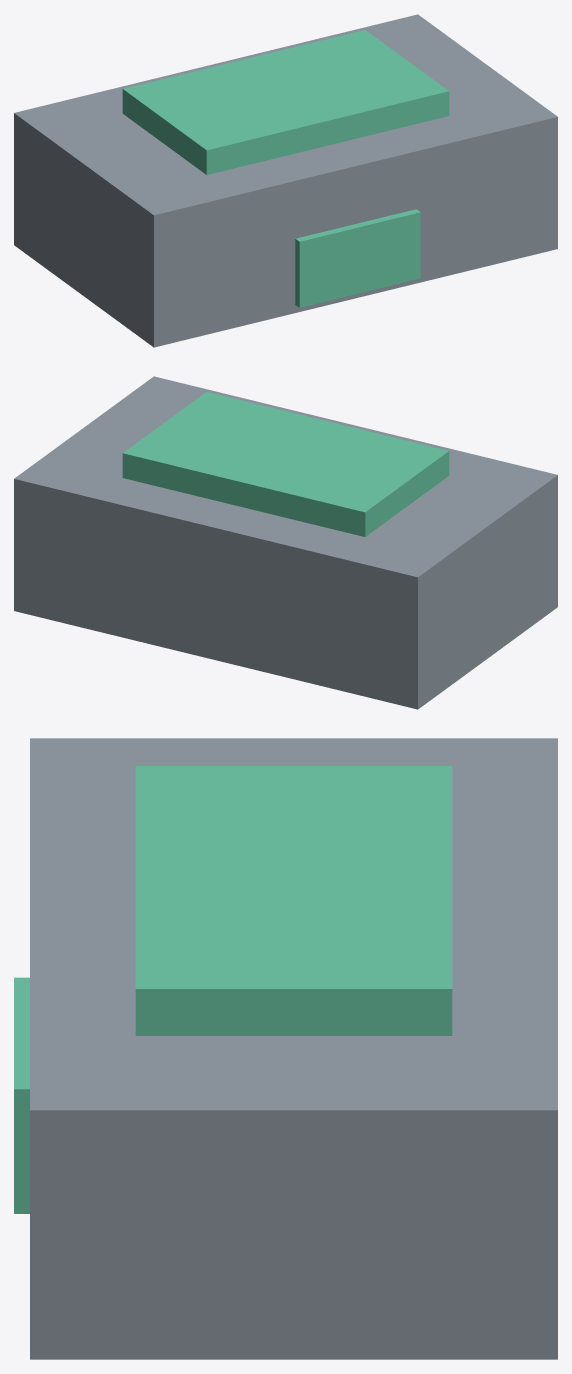
File: CO_QinglongMBT_LOD0.glb
The picture shows the model from 3 angles, top to bottom: view 1: azimuth 30°, elevation 25°; view 2: azimuth 150°, elevation 25°; view 3: azimuth 270°, elevation 25°; orthographic projection. The views are drawn at different scales.
Parts seen in each view (by area): view 1: EntranceGate; view 2: EntranceGate; view 3: EntranceGate.
Part boxes in pixels (x1,y1,x2,y2): EntranceGate: (14,14,557,347); EntranceGate: (14,376,557,709); EntranceGate: (14,738,557,1359).
Size of the model in its own units: 550 by 204 by 340.
